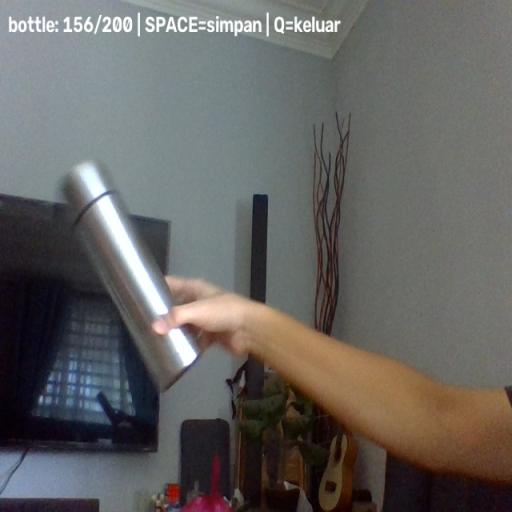Bottle: (58, 159, 204, 392)
